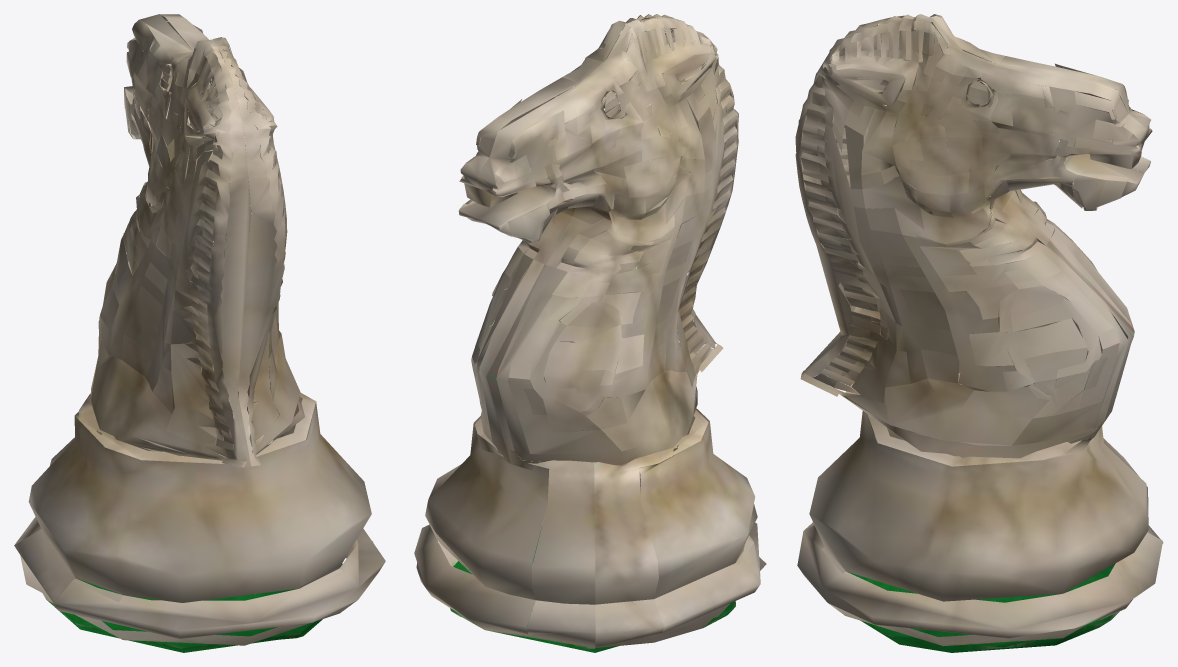
3 renders of one model, left to right at view 1: azimuth 30°, elevation 25°; view 2: azimuth 150°, elevation 25°; view 3: azimuth 270°, elevation 25°, orthographic. The views are drawn at different scales.
Visible parts, largest first — view 1: WN; view 2: WN; view 3: WN.
Part boxes in pixels (<box>): WN: <box>14,14,385,652</box>; WN: <box>414,14,766,652</box>; WN: <box>795,14,1163,652</box>.
Bounding box in the file's own units: 0.0401 × 0.0687 × 0.0402.
Materials: 1 (1 with a texture image).
